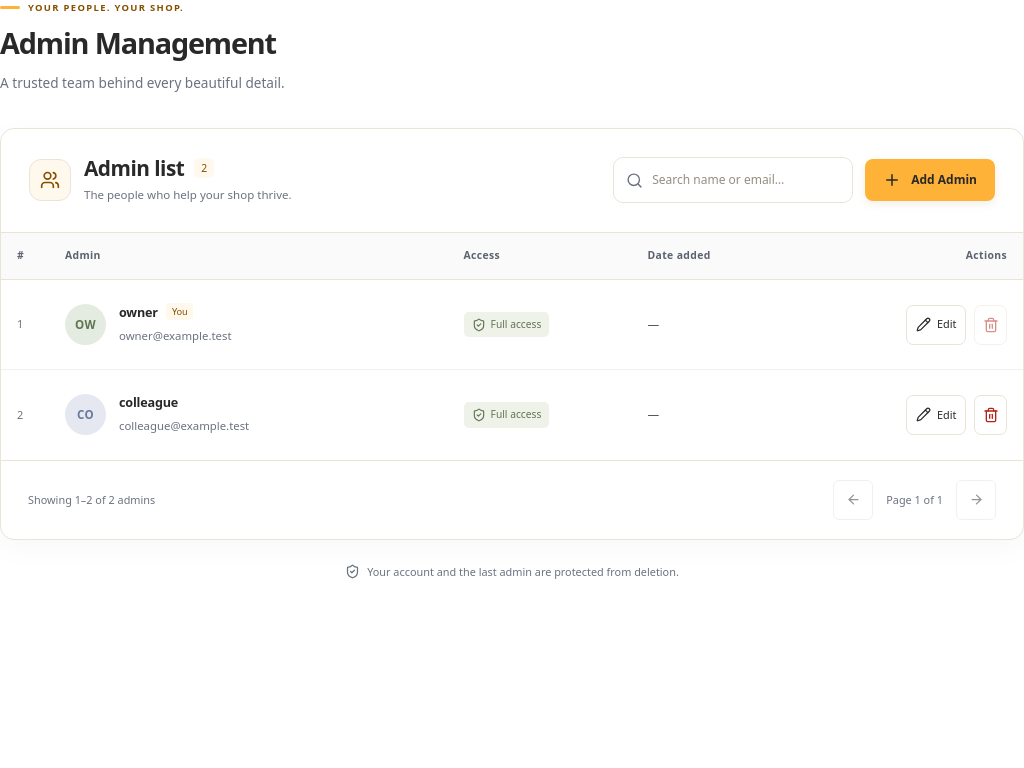
Test case: protects the signed-in admin and requires confirmation before deleting another admin
Expected: the button named "Delete admin owner" is disabled, [974,304,1007,344]
Click the button named "Delete admin colleague" at (991, 415), box [974,395,1007,435]
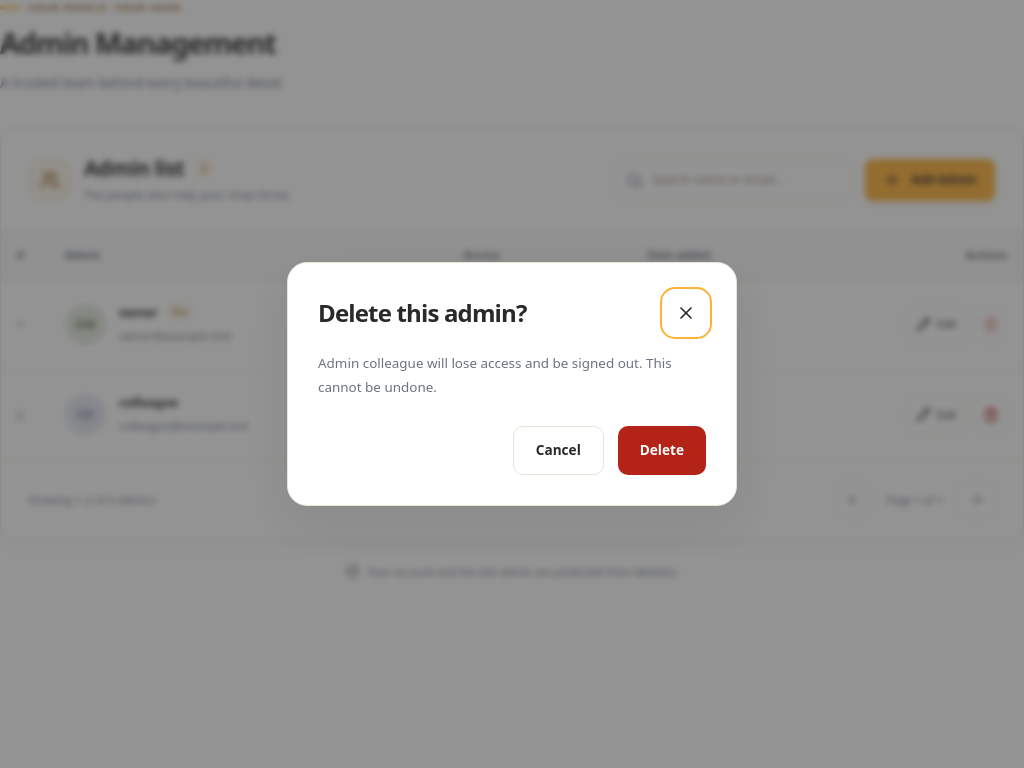
Expected: the dialog is shown, [287,262,737,506]
Click the button "Cancel" at (558, 451), box [513,426,604,475]
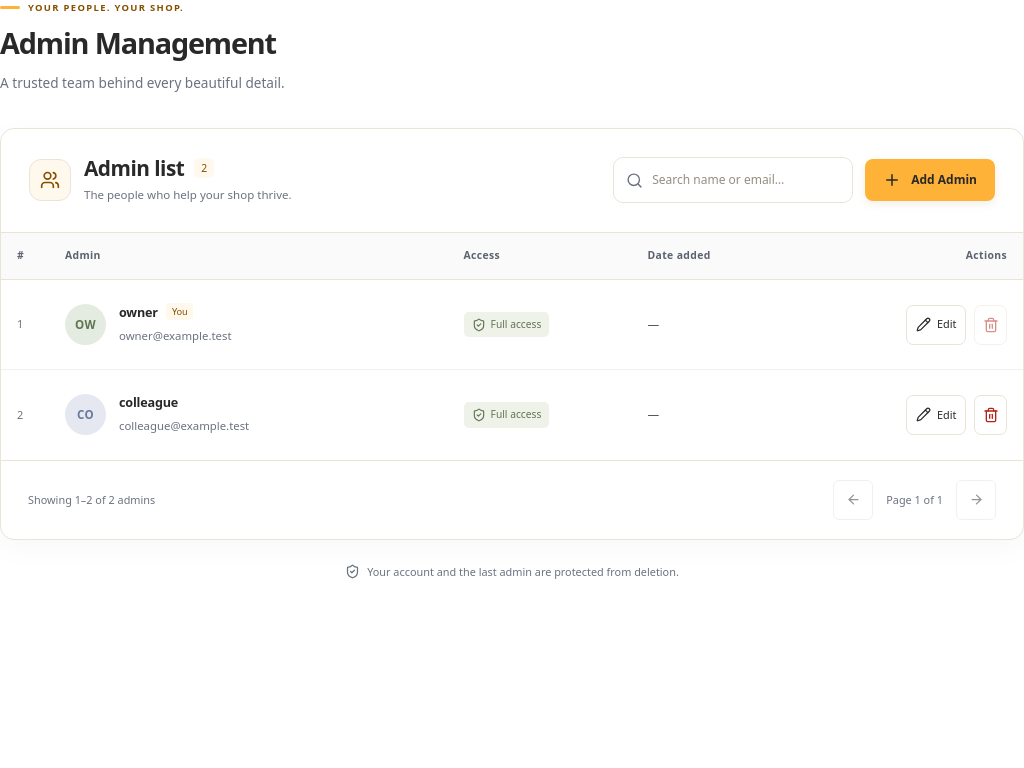
Click the button named "Delete admin colleague" at (991, 415), box [974,395,1007,435]
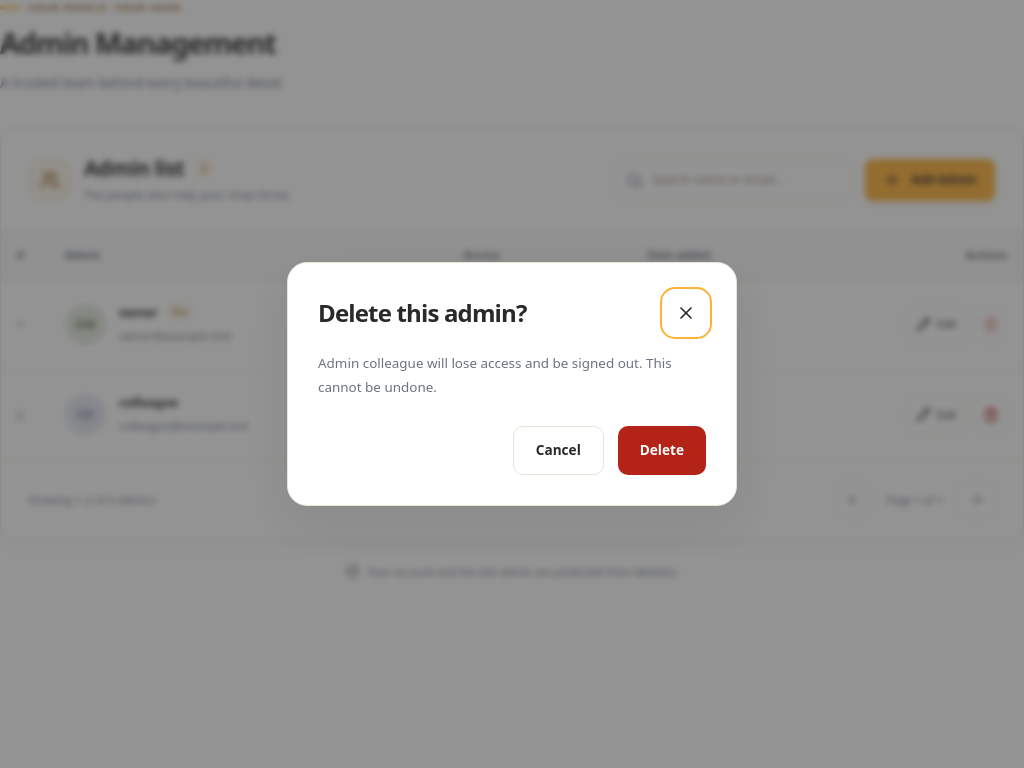
Click the button "Delete" at (662, 451), box [618,426,706,475]
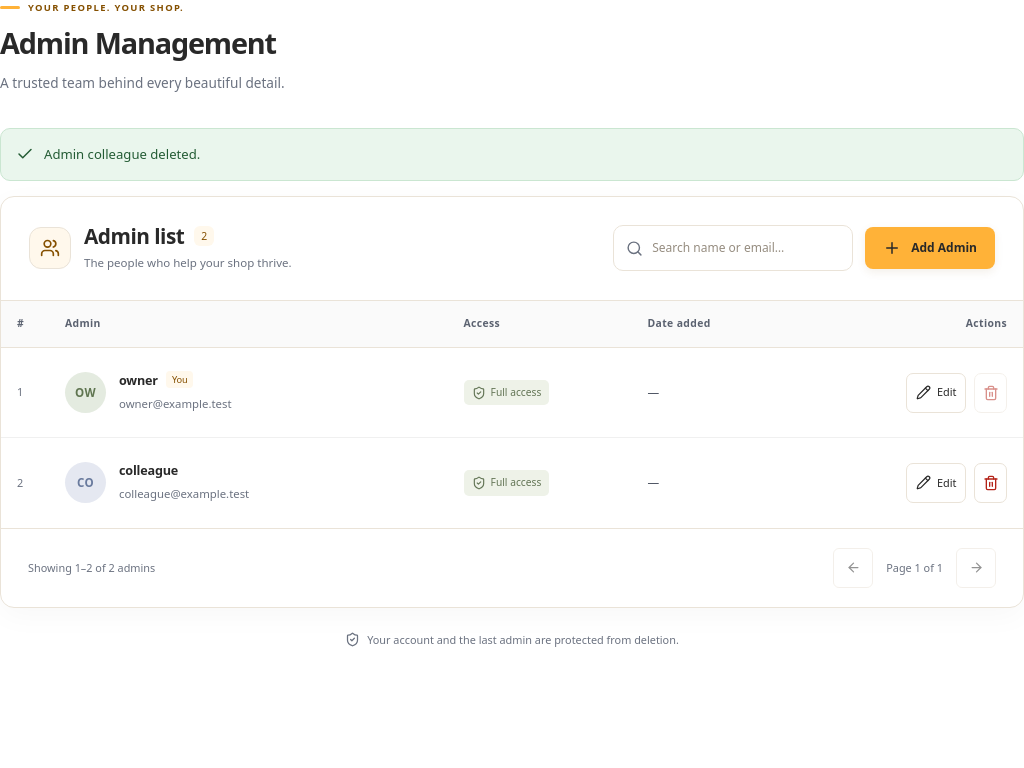
Expected: the text "Admin colleague deleted." is shown, [0,128,1023,180]
